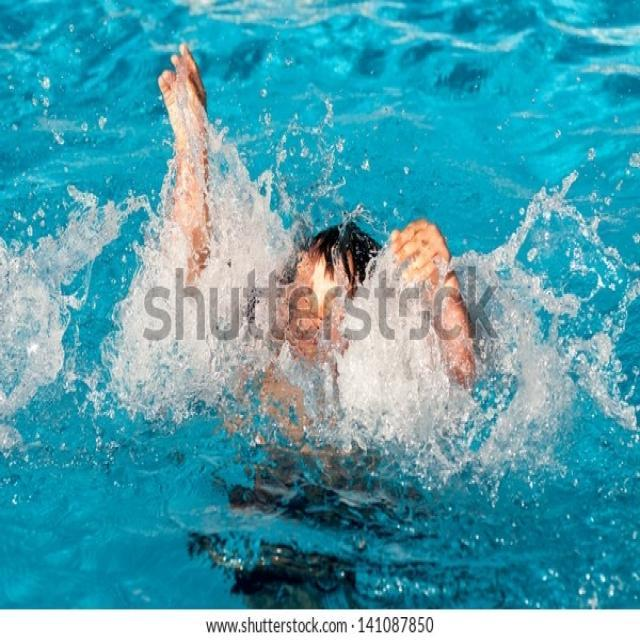Out of Water: (148, 38, 480, 600)
